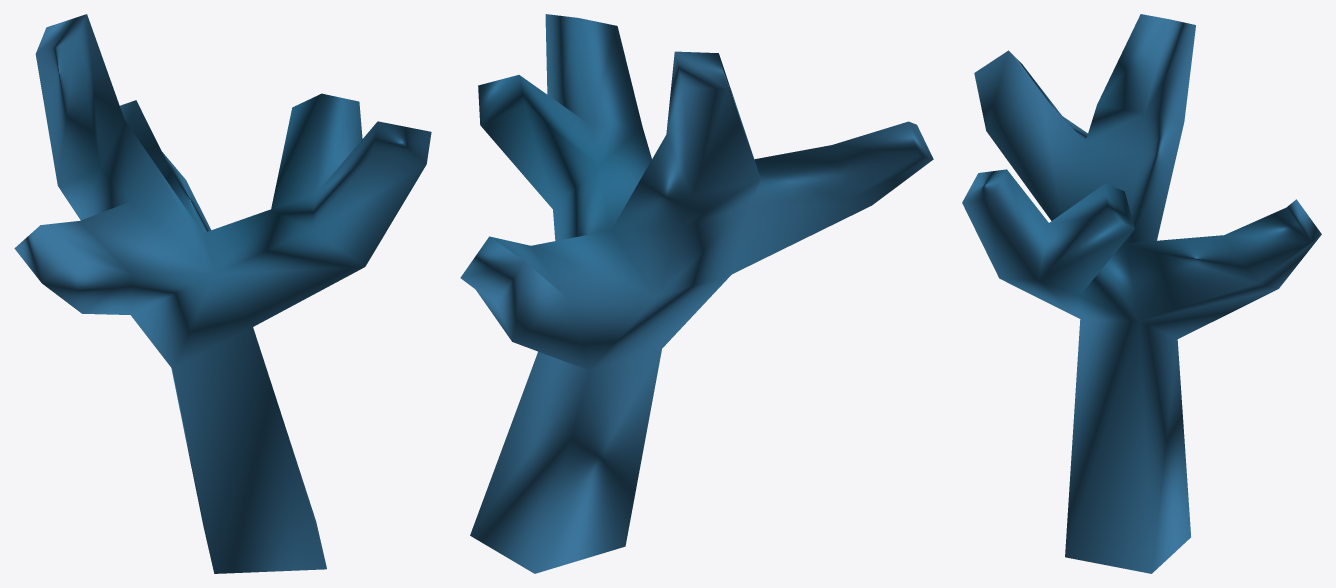
File: coral_A.fbx
3 renders of one model, left to right at view 1: azimuth 30°, elevation 25°; view 2: azimuth 150°, elevation 25°; view 3: azimuth 270°, elevation 25°, orthographic. The views are drawn at different scales.
Visible parts, largest first — view 1: coral_A; view 2: coral_A; view 3: coral_A.
Part boxes in pixels (box(x1,y1,x2,y2)): coral_A: box(14, 14, 431, 573); coral_A: box(460, 14, 933, 573); coral_A: box(962, 14, 1321, 573).
Size of the model in its own units: 135 by 180 by 126.
